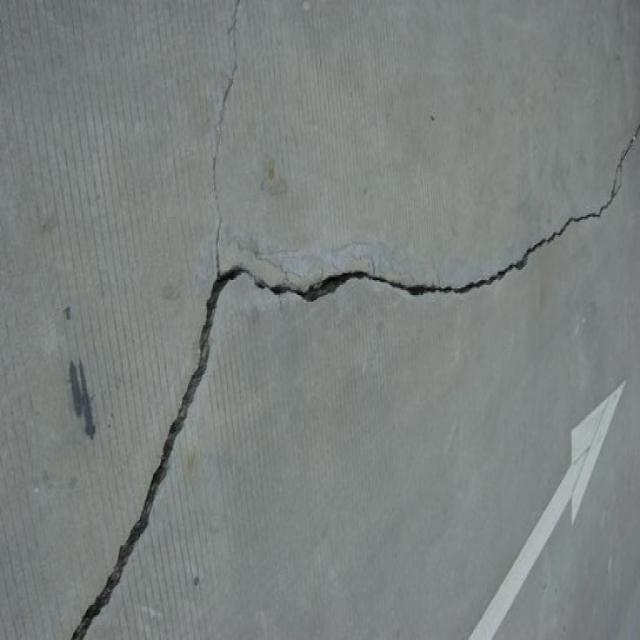Radial: (61, 4, 640, 639)
